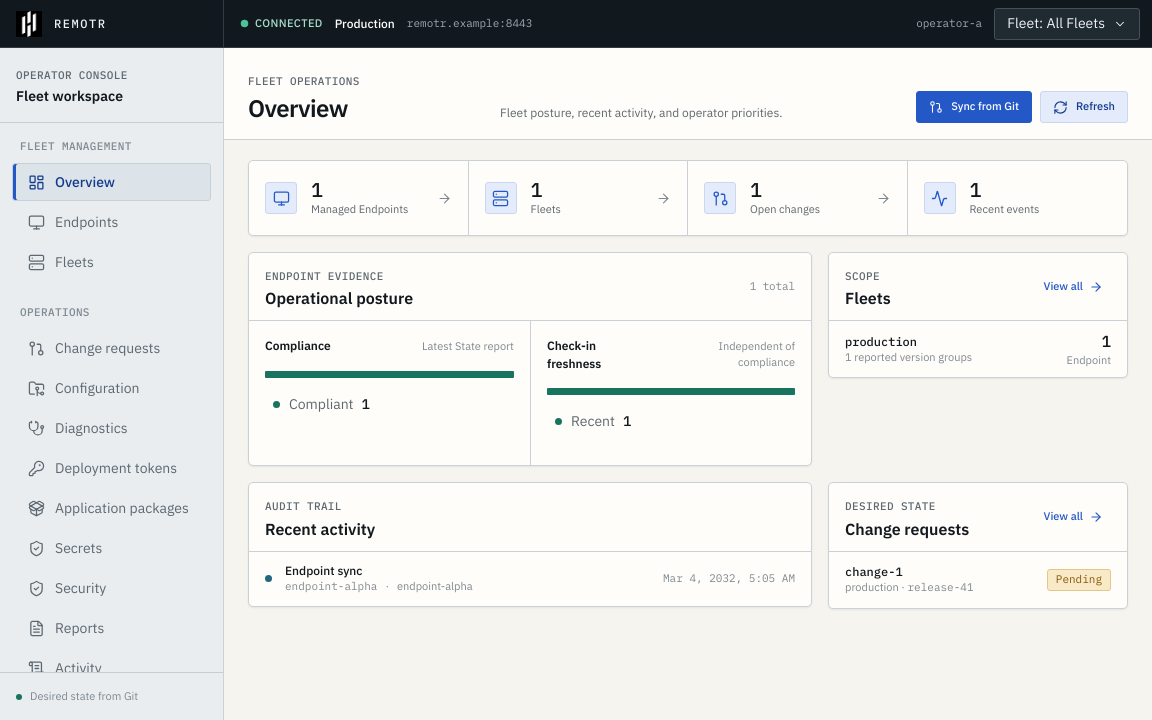
Test case: Git sync user flow › retains the active profile and observed Release ref on failure with retry
Click the button "Sync from Git" at [974, 107], box [916, 91, 1032, 123]
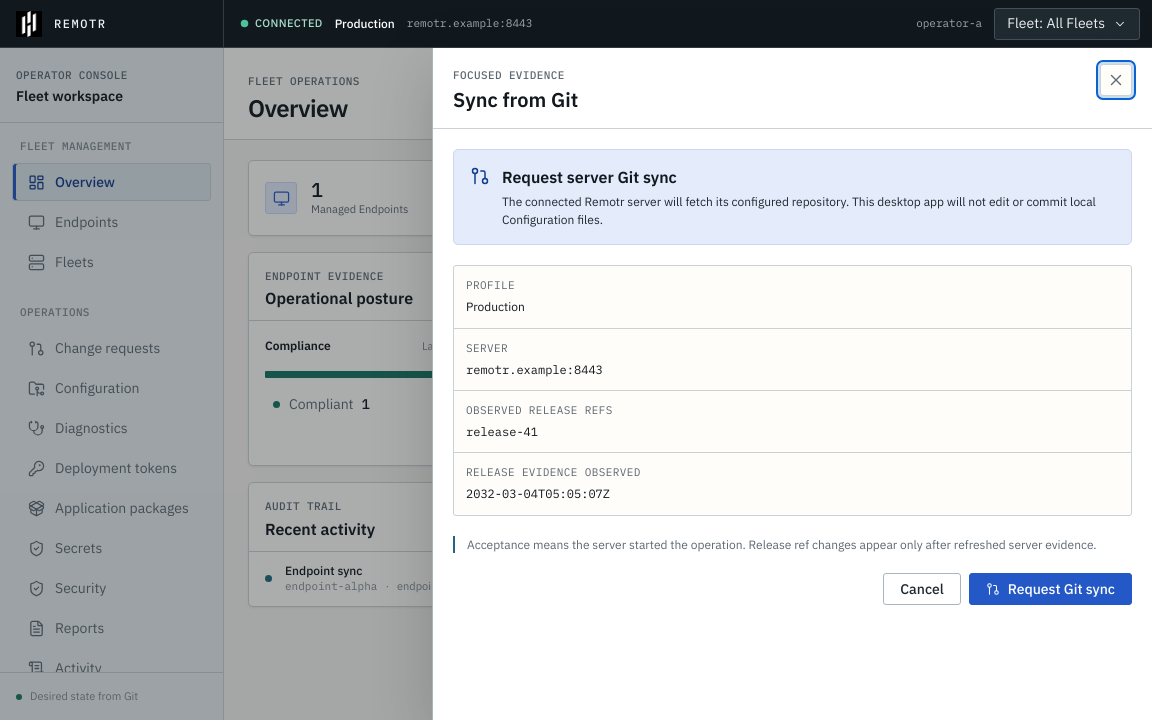
Click the button "Request Git sync" at [1050, 589], box [969, 573, 1132, 605]
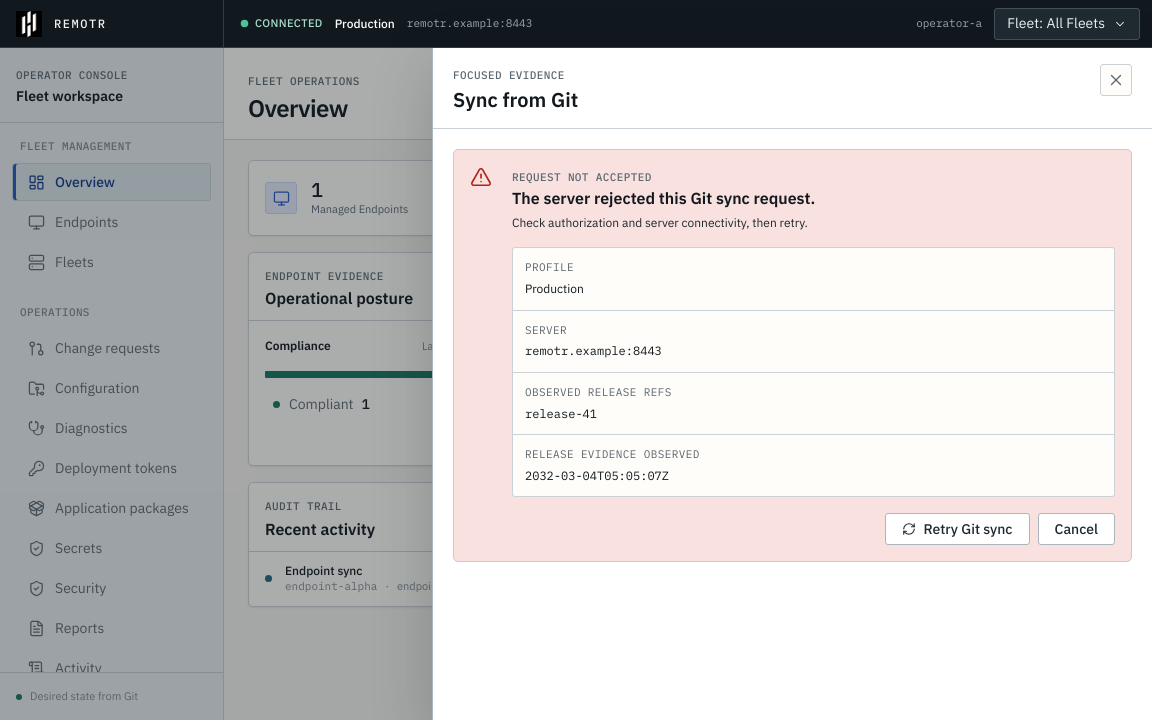
expect the text "Production" below "Profile" is shown: met, box [525, 281, 584, 296]
expect the text "release-41" is shown: met, box [525, 406, 597, 421]
expect the text "2032-03-04T05:05:07Z" is shown: met, box [525, 468, 669, 483]
Click the button "Retry Git sync" at [957, 530], box [884, 514, 1030, 546]
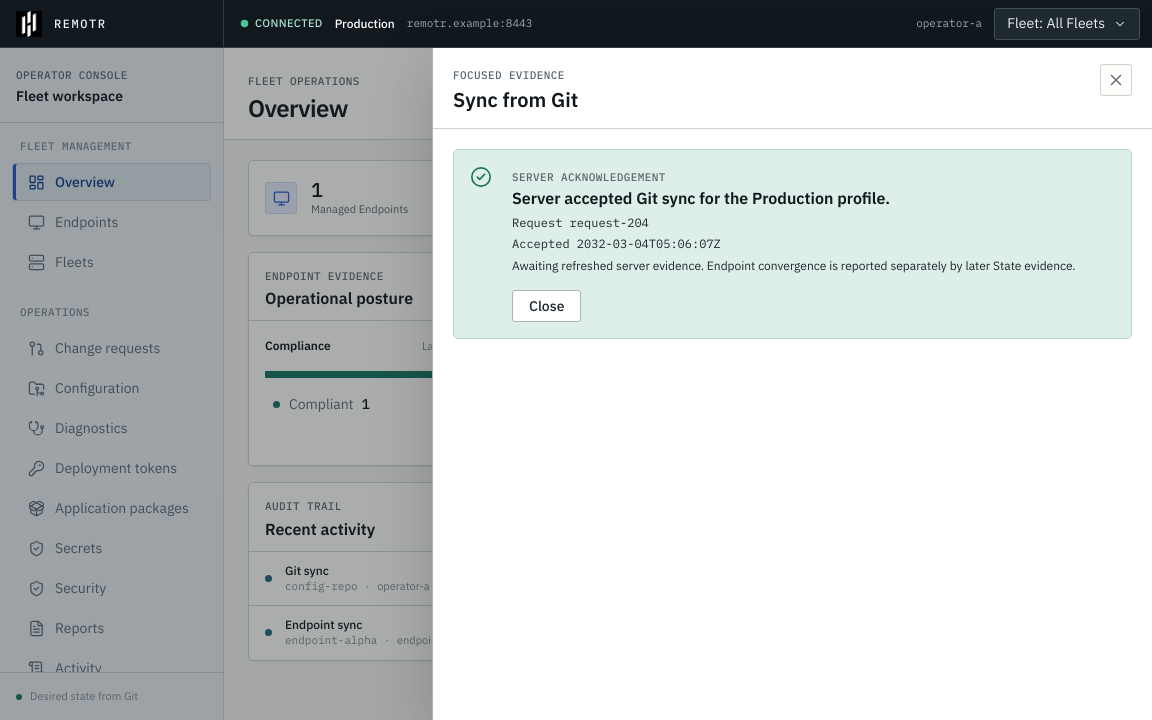
expect the message named "Git sync accepted" is shown: met, box [453, 149, 1132, 339]
